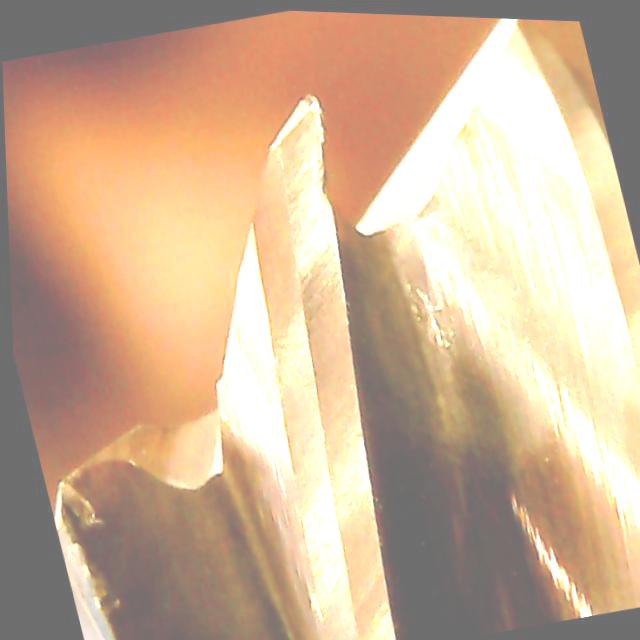Tool-wear-class-1: (203, 84, 389, 386)
